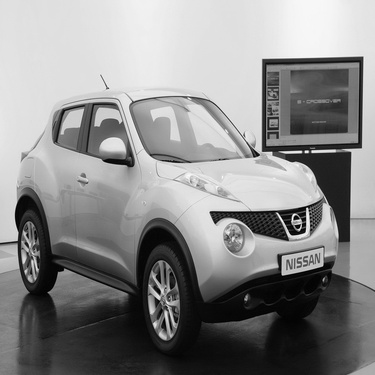car: (9, 62, 344, 359)
